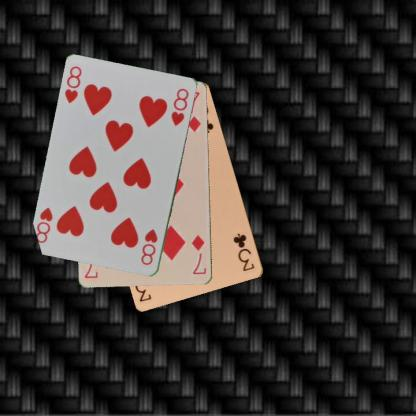3c: (230, 230, 256, 272)
7d: (189, 232, 208, 276)
8h: (62, 64, 83, 105), (139, 226, 159, 267)
